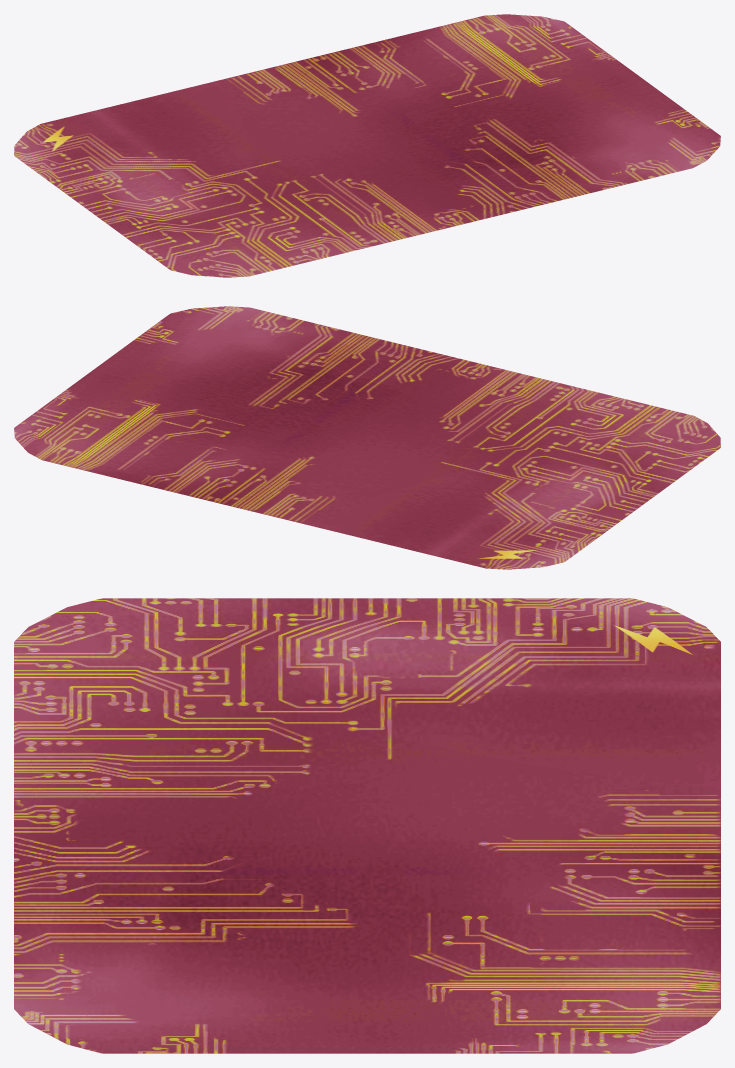
The model's file is red.fbx.
3 views of the same model, one above another, from view 1: azimuth 30°, elevation 25°; view 2: azimuth 150°, elevation 25°; view 3: azimuth 270°, elevation 25° (orthographic). The views are drawn at different scales.
Visible parts, largest first — view 1: pPlane1; view 2: pPlane1; view 3: pPlane1.
Part boxes in pixels (left/top/right/bottom): pPlane1: left=14, top=14, right=720, bottom=277; pPlane1: left=14, top=306, right=720, bottom=569; pPlane1: left=14, top=598, right=720, bottom=1053.
Bounding box in the file's own units: 10.59 × 0 × 6.94.
Materials: 1 (1 with a texture image).
